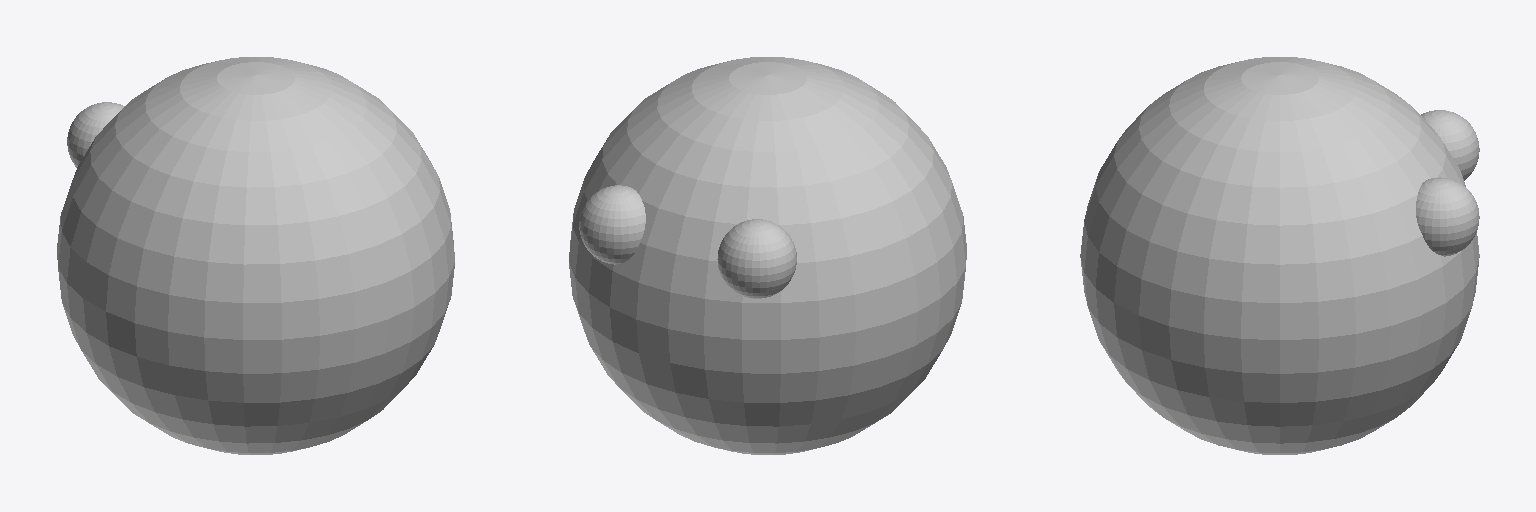
Rendered from phface.obj.
3 views of the same model, side by side, from view 1: azimuth 30°, elevation 25°; view 2: azimuth 150°, elevation 25°; view 3: azimuth 270°, elevation 25° (orthographic).
Parts seen in each view (by area): view 1: Sphere.001, Sphere.002; view 2: Sphere.001, Sphere.002, Sphere; view 3: Sphere.001, Sphere, Sphere.002.
Part boxes in pixels (bbox=[...]): Sphere.001: bbox=[57, 57, 454, 454]; Sphere.002: bbox=[67, 102, 124, 167]; Sphere.001: bbox=[569, 57, 966, 454]; Sphere.002: bbox=[717, 219, 796, 298]; Sphere: bbox=[579, 185, 645, 264]; Sphere.001: bbox=[1080, 57, 1479, 454]; Sphere: bbox=[1416, 177, 1479, 256]; Sphere.002: bbox=[1421, 110, 1479, 180].
Bounding box in the file's own units: 2 × 2 × 2.